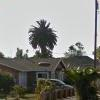Palm tree: (25, 15, 59, 63)
